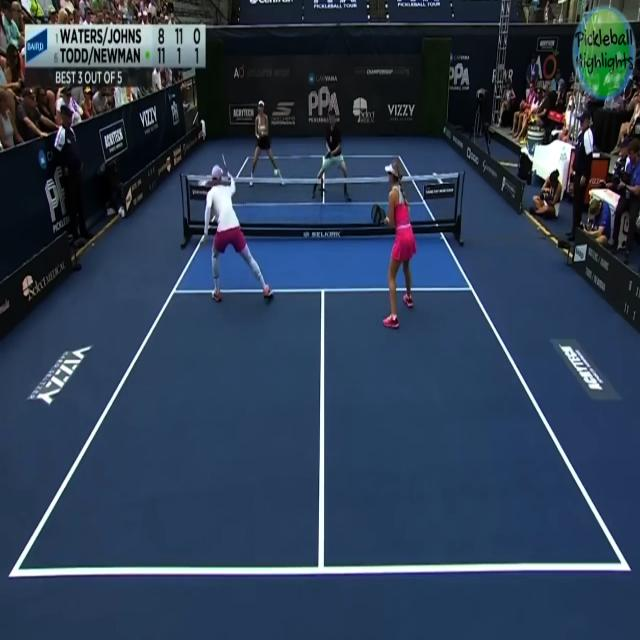Pickleball: (272, 167, 280, 179)
